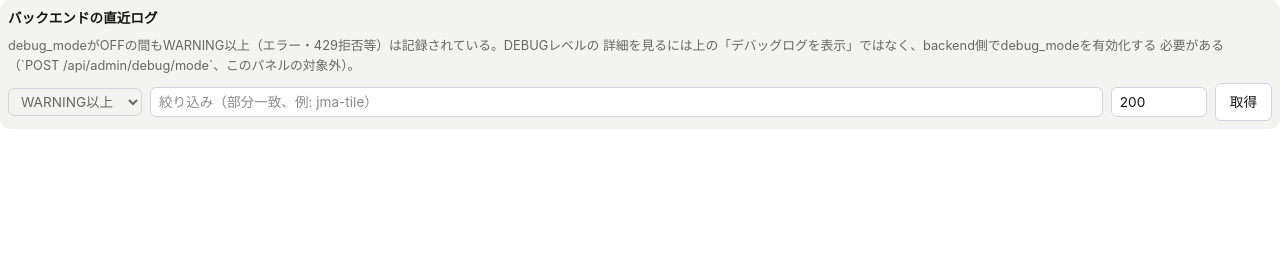
Scenario: BackendLogsPanel › コピーに失敗したら、取得の失敗とは別の行で理由を出す
This screenshot has width=1280, height=265.
Click the button "取得". click: click(1243, 102)
box: [1215, 83, 1272, 121]
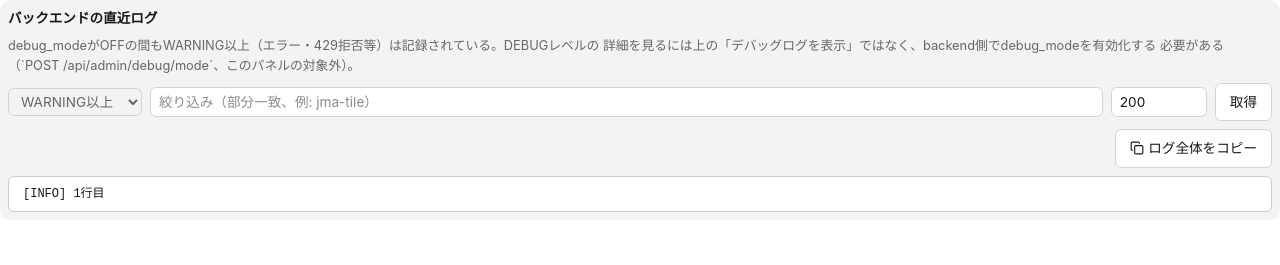
Click the button "ログ全体をコピー". click: click(1194, 148)
box: [1115, 129, 1272, 168]
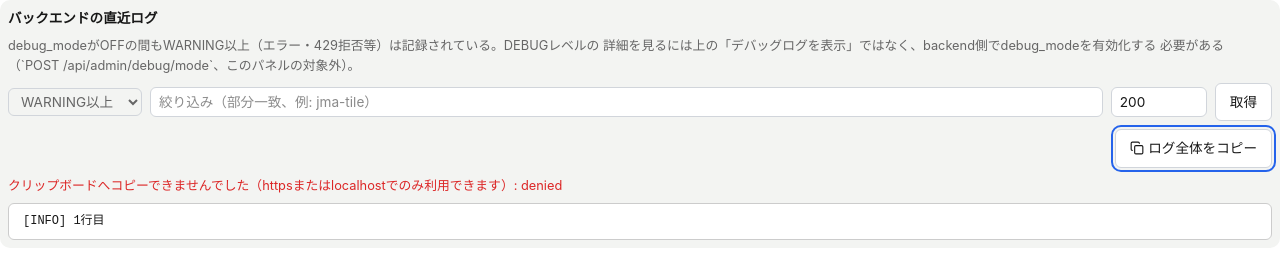
Expected: the text "クリップボードへコピーできませんでした（httpsまたはlocalhostでのみ利用できます）: denied" is shown, [8, 178, 562, 192]
